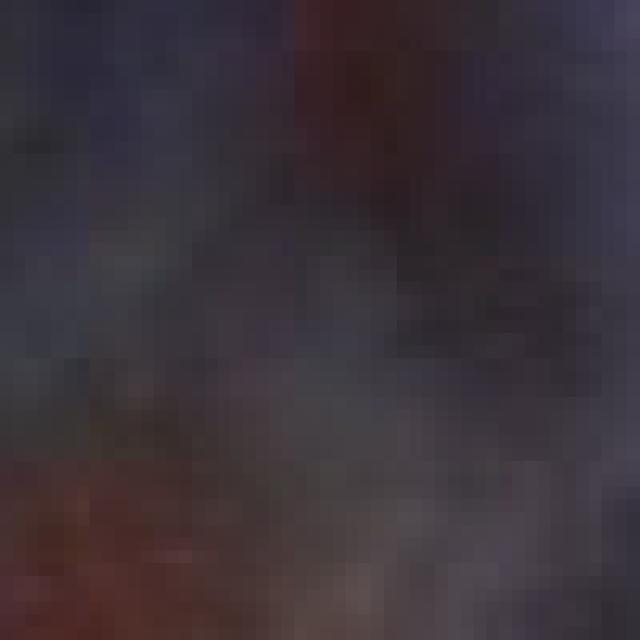fire: (11, 17, 640, 631)
